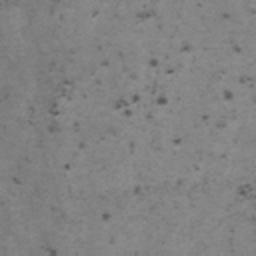Oxide scale of temperature system: (47, 9, 255, 196), (41, 212, 66, 256), (237, 184, 252, 197), (11, 176, 22, 185), (101, 212, 111, 221)
